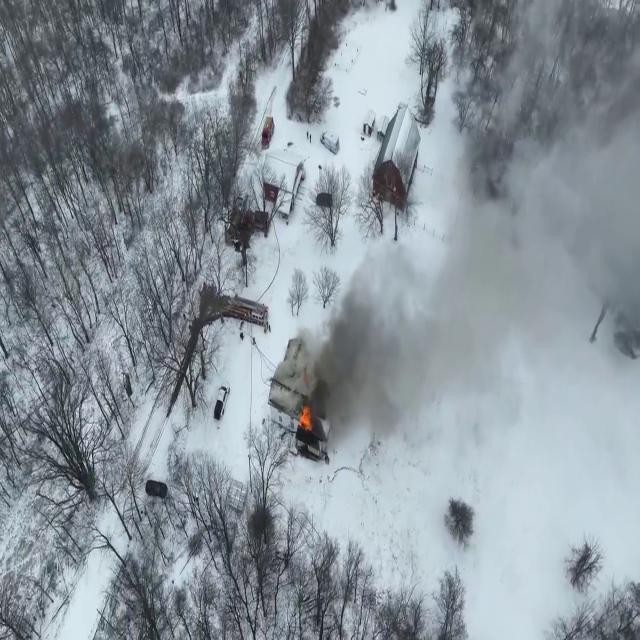Fire: (296, 395, 314, 438)
Smoke: (468, 0, 640, 401), (296, 204, 504, 462)
